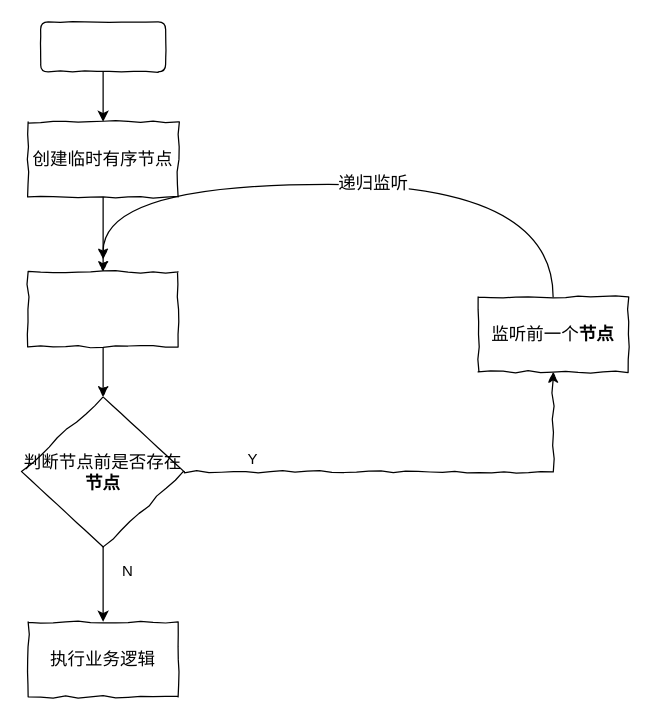
This 650x719 diagram has some shape labels left out. The centre of each missing label's shape, as x and y in pixels:
开始: pixel 102 46
获取所有子节点 从小到大排序: pixel 102 309
